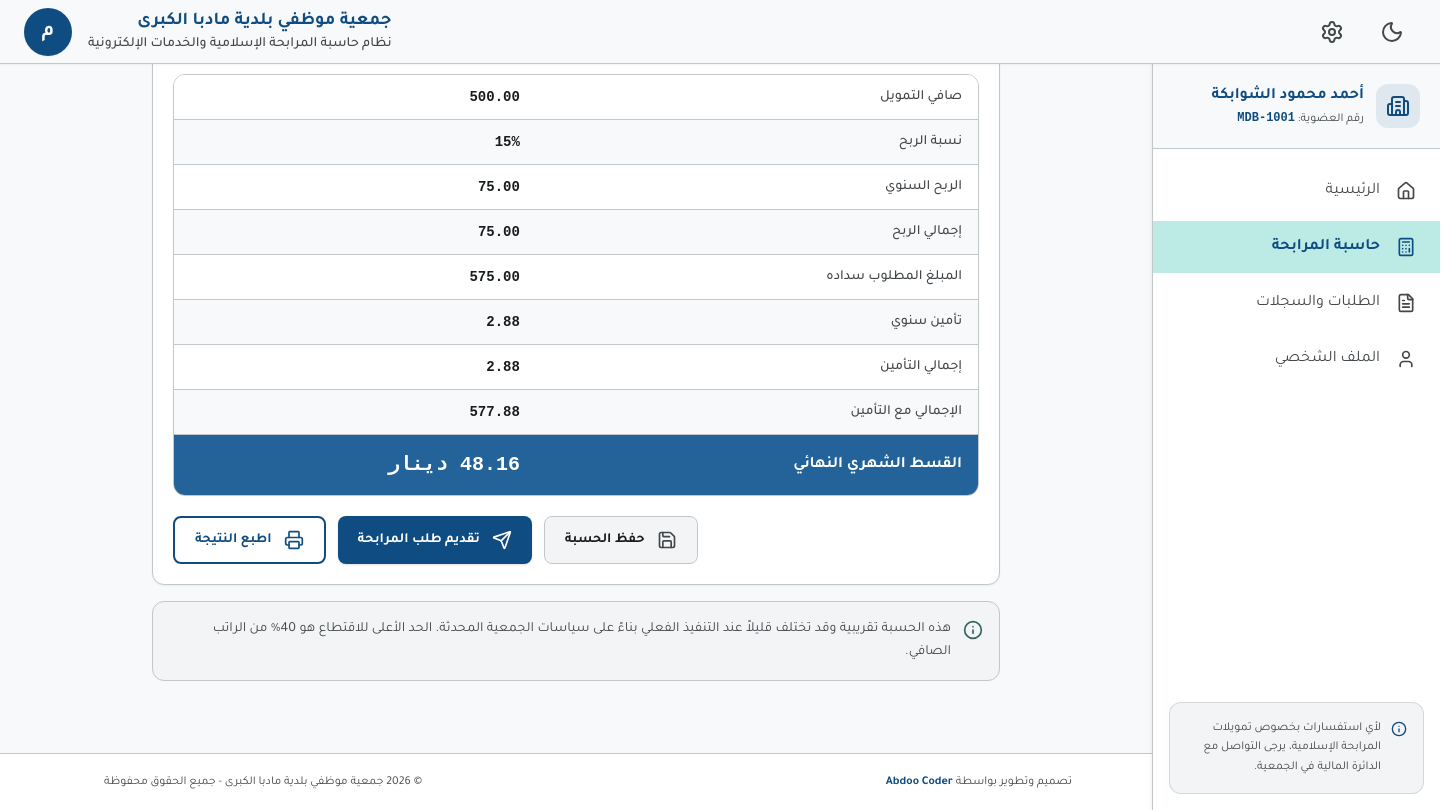
App with Convex queries and mutations › shows a dismissible error toast and clears it on dismiss
(page scrolled)
Click the button "حفظ الحسبة": (621,540) [544,516,698,564]
(page scrolled)
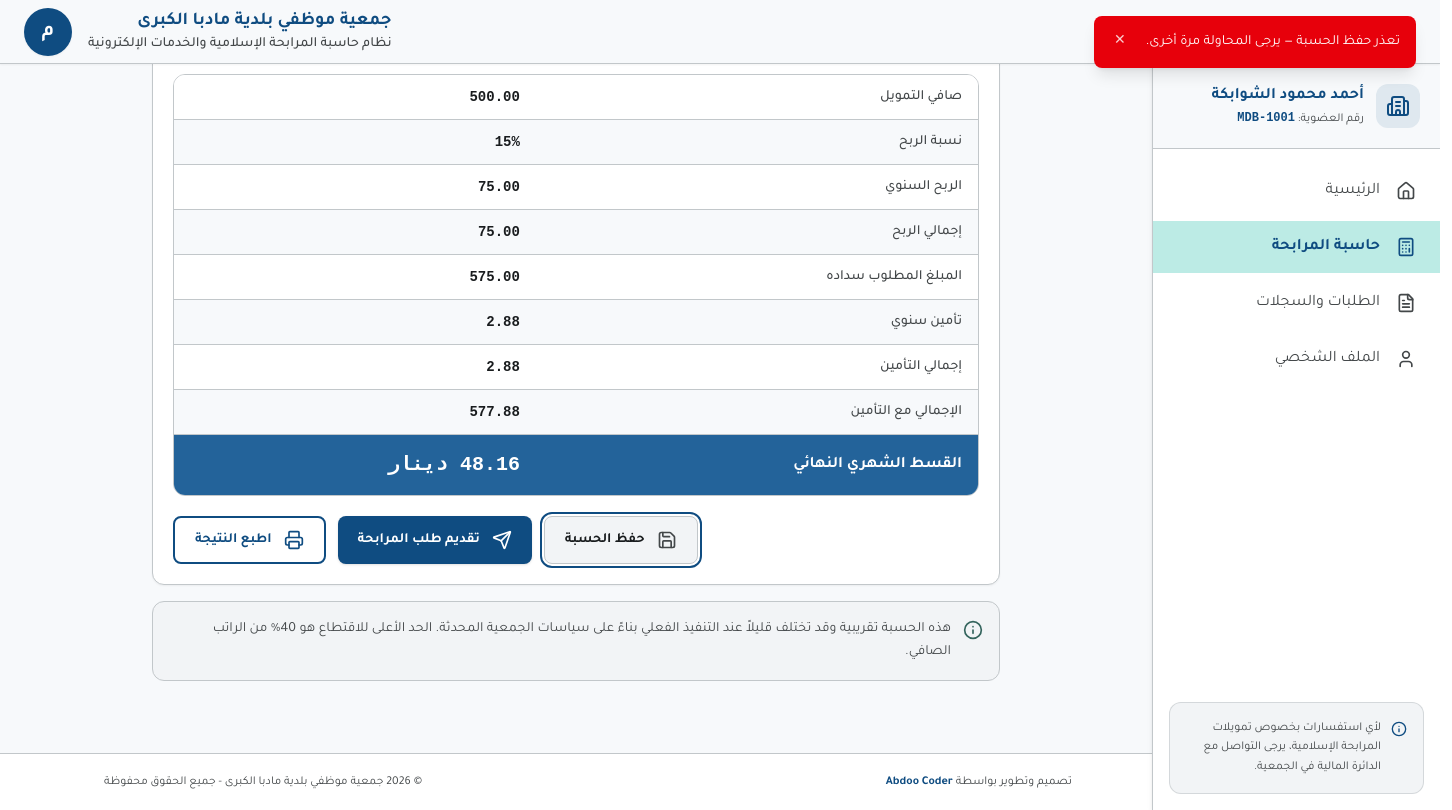
expect the message shows "تعذر حفظ الحسبة": met, box [1146,35,1400,49]
Click the button named "إغلاق رسالة الخطأ": (1120,42) [1110,28,1130,56]
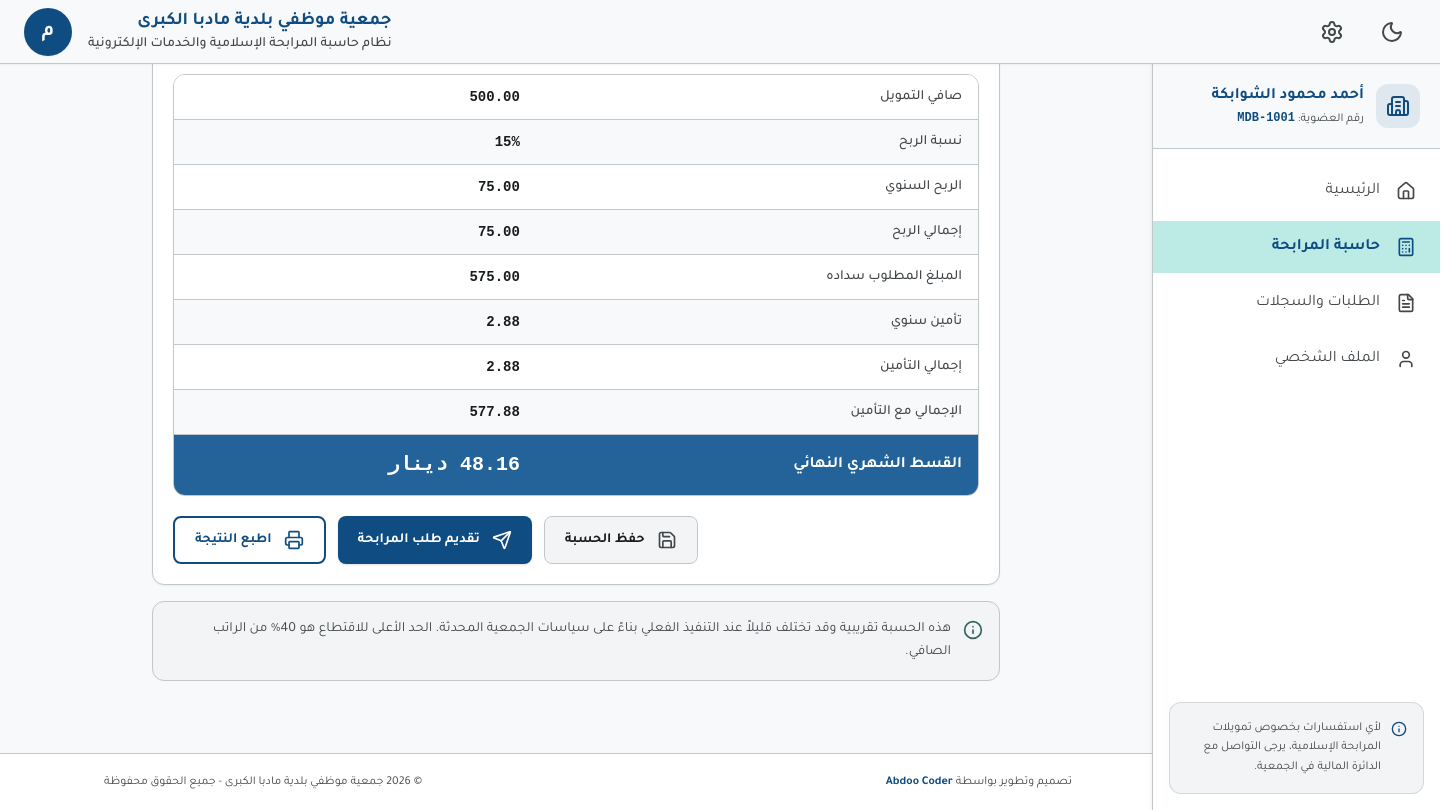
expect the message "تعذر حفظ الحسبة — يرجى المحاولة مرة أخرى. ✕" is gone: met
